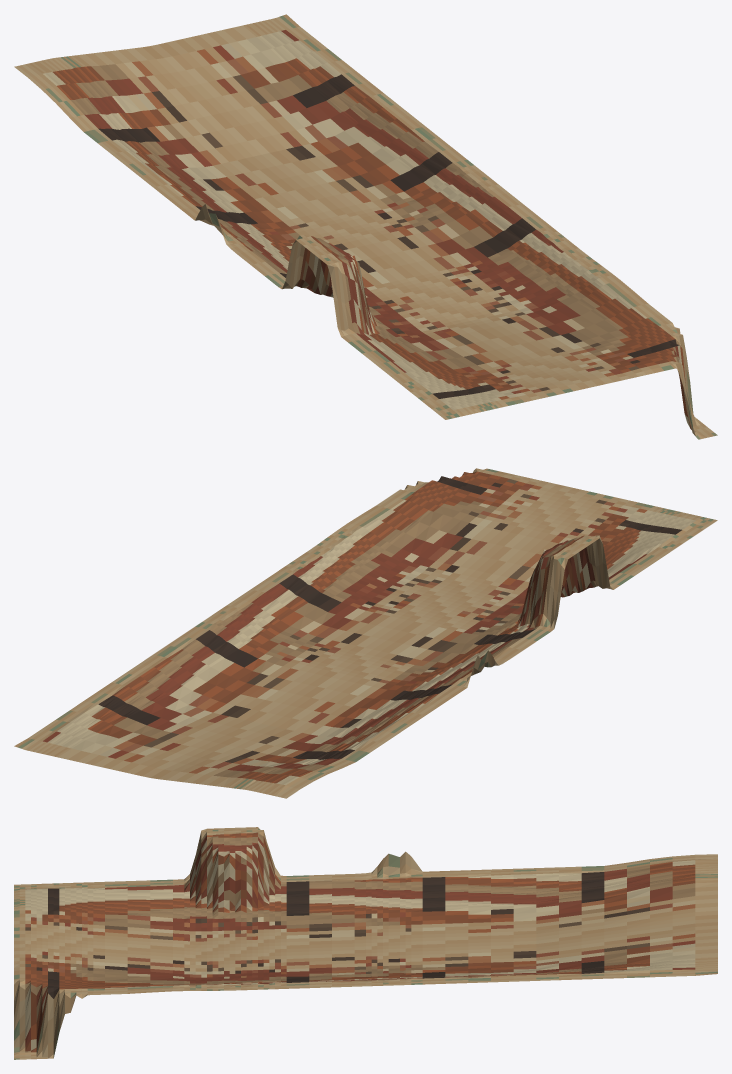
The model's file is liner_bend_return_wash.glb.
The picture shows the model from 3 angles, top to bottom: view 1: azimuth 30°, elevation 25°; view 2: azimuth 150°, elevation 25°; view 3: azimuth 270°, elevation 25°; orthographic projection. The views are drawn at different scales.
Visible parts, largest first — view 1: liner_bend_return_wash_body; view 2: liner_bend_return_wash_body; view 3: liner_bend_return_wash_body.
Part boxes in pixels (<box>): liner_bend_return_wash_body: <box>14,14,717,439</box>; liner_bend_return_wash_body: <box>14,468,717,798</box>; liner_bend_return_wash_body: <box>14,827,717,1059</box>.
Bounding box in the file's own units: 56 × 30 × 154.
